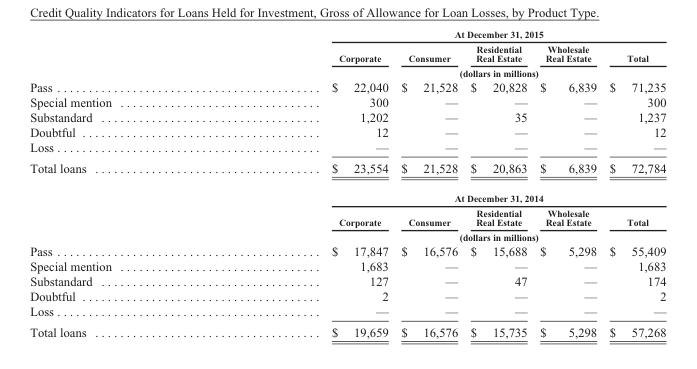table: (29, 28, 665, 338)
table column: (29, 28, 220, 338), (220, 28, 394, 338), (532, 28, 602, 338), (394, 28, 463, 338), (463, 28, 532, 338), (602, 28, 665, 338)
table column header: (29, 28, 665, 78)
table row: (29, 157, 665, 183), (29, 41, 665, 65), (29, 205, 665, 229), (29, 183, 665, 205), (29, 139, 665, 157), (29, 303, 665, 321), (29, 321, 665, 338), (29, 78, 665, 94), (29, 242, 665, 258), (29, 94, 665, 109), (29, 109, 665, 124), (29, 124, 665, 139), (29, 258, 665, 273), (29, 273, 665, 288), (29, 288, 665, 303), (29, 28, 665, 41), (29, 65, 665, 78), (29, 229, 665, 242)
table spanning cell: (220, 183, 665, 205), (220, 28, 665, 41), (220, 65, 665, 78), (220, 229, 665, 242)
